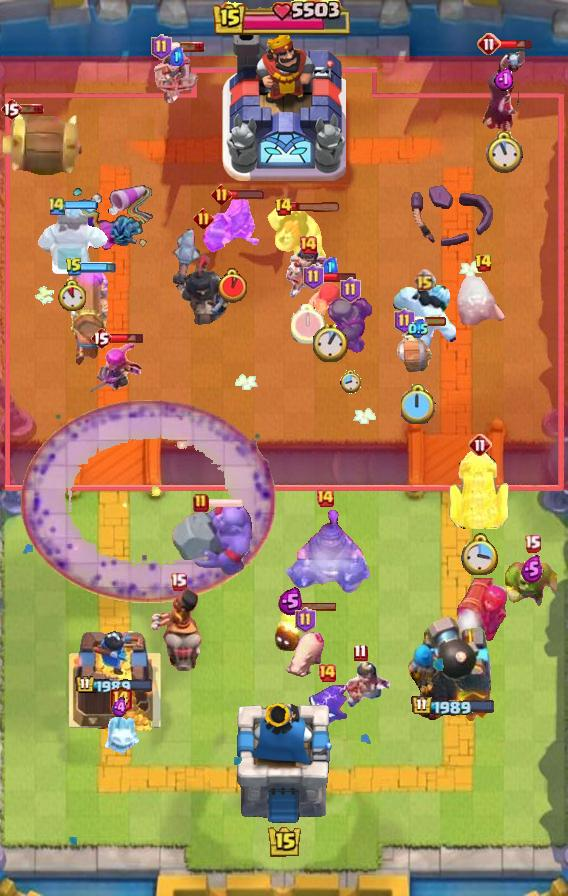archer-queen: (169, 500, 257, 580)
bat: (98, 717, 142, 757)
battle-healer: (63, 264, 109, 368)
bomber: (272, 604, 308, 654)
clock: (213, 0, 355, 38)
electro-spirit: (277, 588, 302, 616), (521, 555, 543, 583), (493, 69, 515, 92), (408, 319, 428, 339), (112, 698, 128, 719), (323, 257, 337, 277), (170, 47, 184, 65)
elite-barbarian: (147, 587, 209, 681)
elixir: (485, 131, 523, 174), (461, 533, 499, 575), (312, 322, 348, 361), (400, 384, 435, 424), (291, 304, 325, 344), (218, 268, 247, 303), (58, 280, 86, 311), (339, 370, 360, 394)
emote: (290, 203, 342, 214), (286, 600, 338, 611), (207, 497, 244, 509), (169, 41, 205, 53), (8, 103, 44, 115), (412, 315, 448, 327), (110, 332, 146, 344), (499, 38, 534, 50), (323, 271, 358, 283), (229, 189, 265, 200), (80, 262, 115, 273), (65, 200, 99, 210)
evolution-symbol: (84, 341, 142, 399)
flying-machine: (322, 295, 378, 353), (502, 556, 562, 610)
giant: (284, 629, 326, 681)
goblin-brawler: (449, 445, 511, 529)
ice-golem: (307, 282, 353, 324)
inferno-dragon: (170, 226, 236, 332)
king-tower: (222, 31, 346, 181), (235, 703, 333, 826)
knight: (392, 320, 444, 374)
mega-minion: (453, 564, 511, 644)
queen-tower: (66, 621, 162, 731)
rage: (34, 206, 111, 274), (392, 281, 456, 351), (266, 205, 330, 271)
rascal-boy: (481, 48, 527, 136)
rocket: (20, 399, 276, 603)
royal-guardian: (280, 507, 370, 595)
selected: (412, 694, 497, 717), (74, 675, 154, 697)
skeleton-dragon: (329, 662, 391, 714), (152, 45, 202, 103), (286, 243, 330, 303)
spear-goblin: (306, 685, 348, 731)
tesla: (457, 273, 509, 325)
tesla-evolution: (203, 196, 261, 256)
text: (108, 685, 133, 715), (477, 32, 501, 56), (468, 433, 492, 457), (413, 268, 436, 292), (151, 34, 172, 60), (304, 264, 325, 290), (339, 277, 360, 303), (394, 308, 415, 334), (295, 607, 316, 633), (0, 97, 22, 121), (90, 326, 112, 350), (211, 183, 233, 205), (193, 208, 215, 229), (47, 196, 67, 217), (274, 197, 294, 217), (298, 235, 318, 255), (315, 488, 335, 508), (317, 663, 337, 683), (475, 253, 494, 273), (65, 257, 83, 277), (169, 573, 186, 592), (193, 493, 209, 513), (524, 535, 541, 553), (353, 643, 367, 662)
the-log: (0, 111, 90, 179)
tower-bar: (403, 615, 503, 731)
